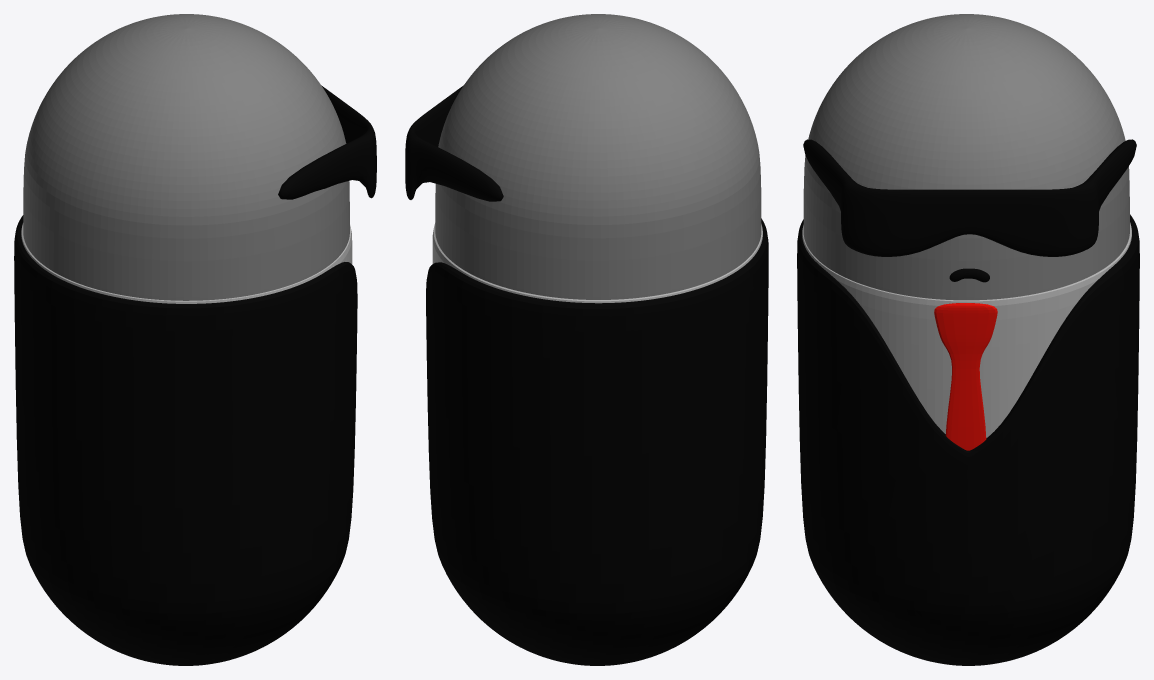
File: AgentBean.fbx
3 renders of one model, left to right at view 1: azimuth 30°, elevation 25°; view 2: azimuth 150°, elevation 25°; view 3: azimuth 270°, elevation 25°, orthographic.
Visible parts, largest first — view 1: Agent Bean; view 2: Agent Bean; view 3: Agent Bean.
Boxes of the visible parts, x1,y1,x2,y2 form: Agent Bean: (14,14,376,665); Agent Bean: (405,14,768,665); Agent Bean: (797,14,1139,665).
Bounding box in the file's own units: 892 × 891 × 1783.
